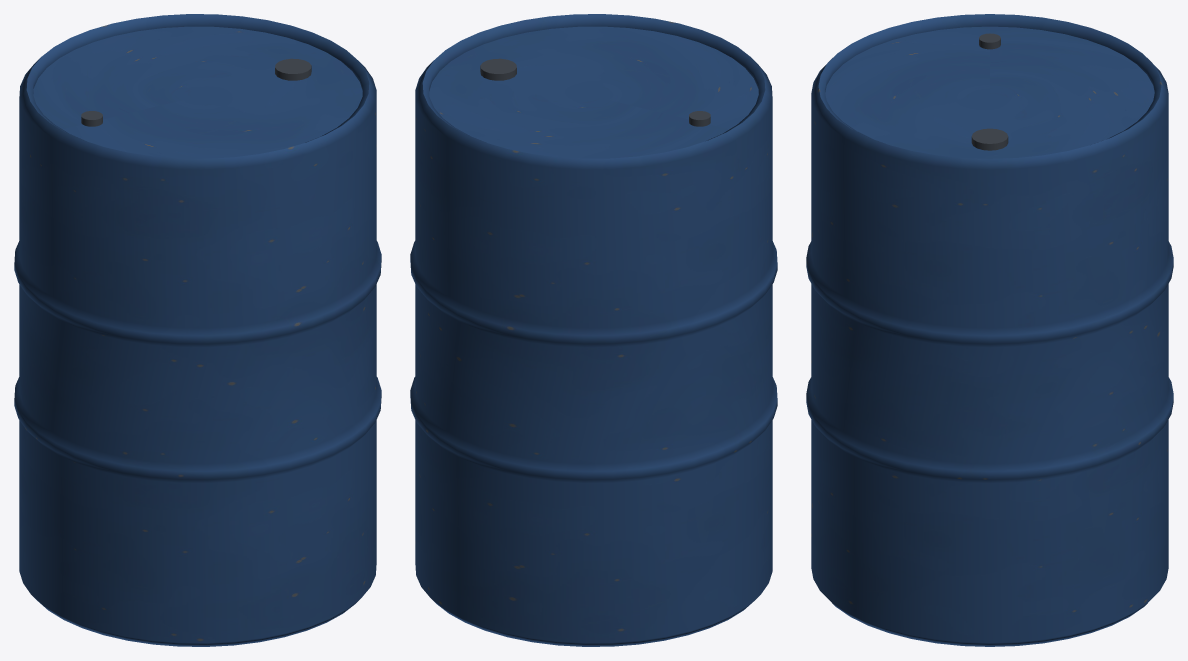
The model's file is fk_barrel_steel.glb.
3 views of the same model, side by side, from view 1: azimuth 30°, elevation 25°; view 2: azimuth 150°, elevation 25°; view 3: azimuth 270°, elevation 25° (orthographic).
Parts seen in each view (by area): view 1: fk_barrel_steel; view 2: fk_barrel_steel; view 3: fk_barrel_steel.
Boxes of the visible parts, x1,y1,x2,y2 form: fk_barrel_steel: [14, 14, 381, 646]; fk_barrel_steel: [410, 14, 777, 646]; fk_barrel_steel: [806, 14, 1173, 646].
Size of the model in its own units: 0.601 by 0.88 by 0.601.
Materials: 2 (1 with a texture image).
